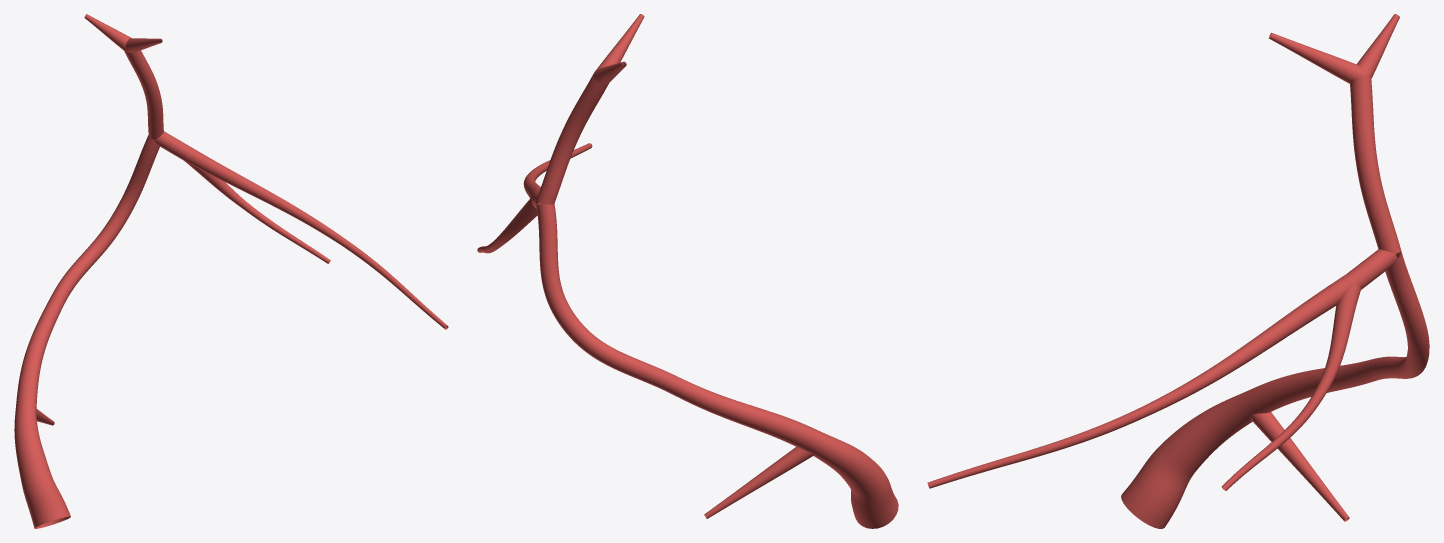
3 renders of one model, left to right at view 1: azimuth 30°, elevation 25°; view 2: azimuth 150°, elevation 25°; view 3: azimuth 270°, elevation 25°, orthographic. The views are drawn at different scales.
Visible parts, largest first — view 1: 左侧臀上动脉; view 2: 左侧臀上动脉; view 3: 左侧臀上动脉.
Boxes of the visible parts, bbox=[...] form: 左侧臀上动脉: bbox=[14, 14, 448, 528]; 左侧臀上动脉: bbox=[477, 14, 898, 528]; 左侧臀上动脉: bbox=[927, 14, 1429, 528].
Size of the model in its own units: 0.0712 by 0.0853 by 0.065.
